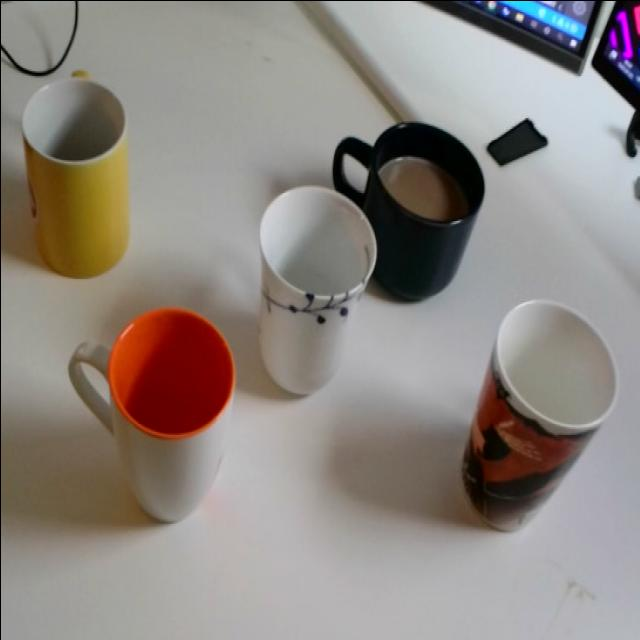Cocio Cup: (18, 74, 130, 278)
Cup: (332, 121, 484, 302)
Halloween cup: (456, 299, 617, 536)
Hand painted cup: (255, 184, 378, 398)
White Cup: (64, 308, 236, 524)
